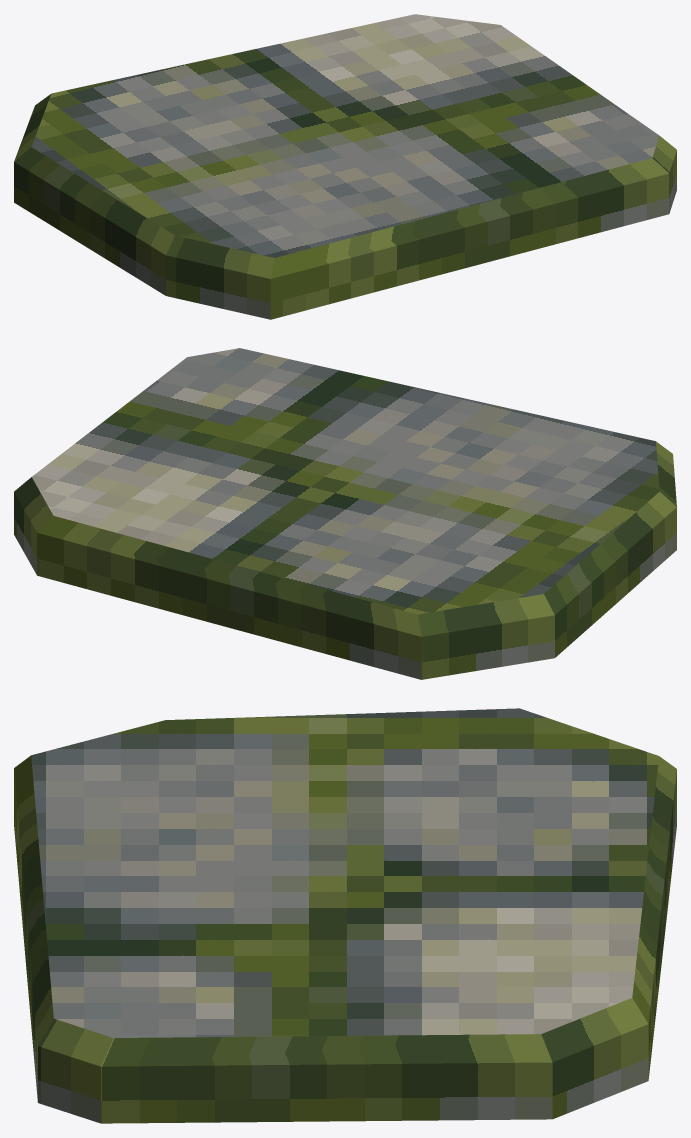
The model's file is PathStoneE.glb.
3 views of the same model, one above another, from view 1: azimuth 30°, elevation 25°; view 2: azimuth 150°, elevation 25°; view 3: azimuth 270°, elevation 25° (orthographic). The views are drawn at different scales.
Parts seen in each view (by area): view 1: PathStoneE; view 2: PathStoneE; view 3: PathStoneE.
Boxes of the visible parts, x1,y1,x2,y2 form: PathStoneE: [14, 14, 676, 319]; PathStoneE: [14, 348, 676, 679]; PathStoneE: [14, 708, 676, 1123].
Size of the model in its own units: 0.6816 by 0.07 by 0.5487.
1 material, 1 textured.
